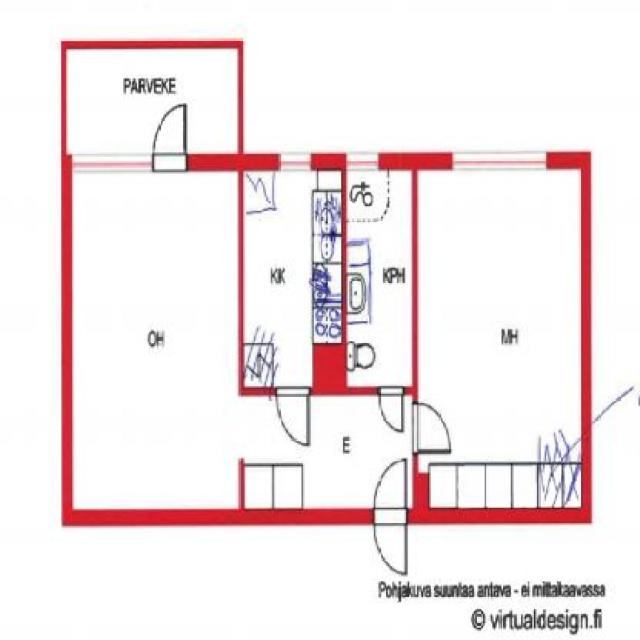door: (72, 174, 414, 506), (416, 168, 582, 510), (243, 171, 343, 389), (66, 44, 237, 154), (346, 169, 411, 386)
window: (372, 454, 412, 578), (153, 103, 190, 171), (276, 385, 312, 446), (414, 402, 452, 456), (379, 388, 406, 435)
zone: (452, 154, 546, 171), (71, 154, 152, 171), (278, 153, 310, 170), (348, 154, 378, 169)
